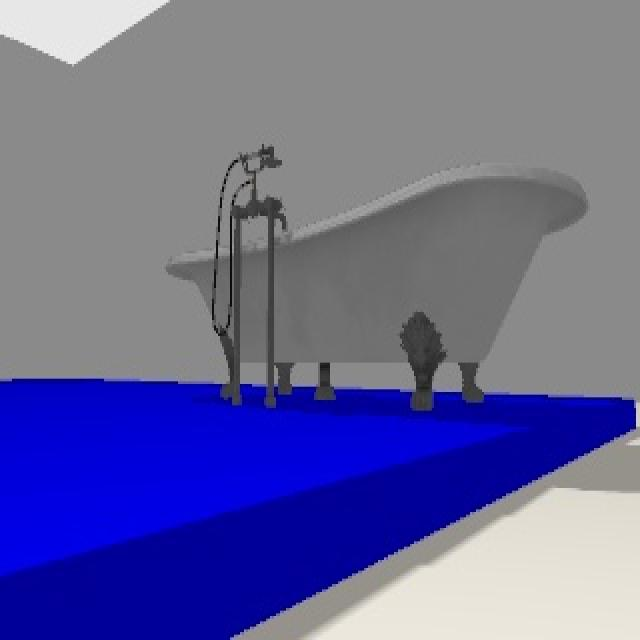bathtub: (168, 147, 590, 410)
